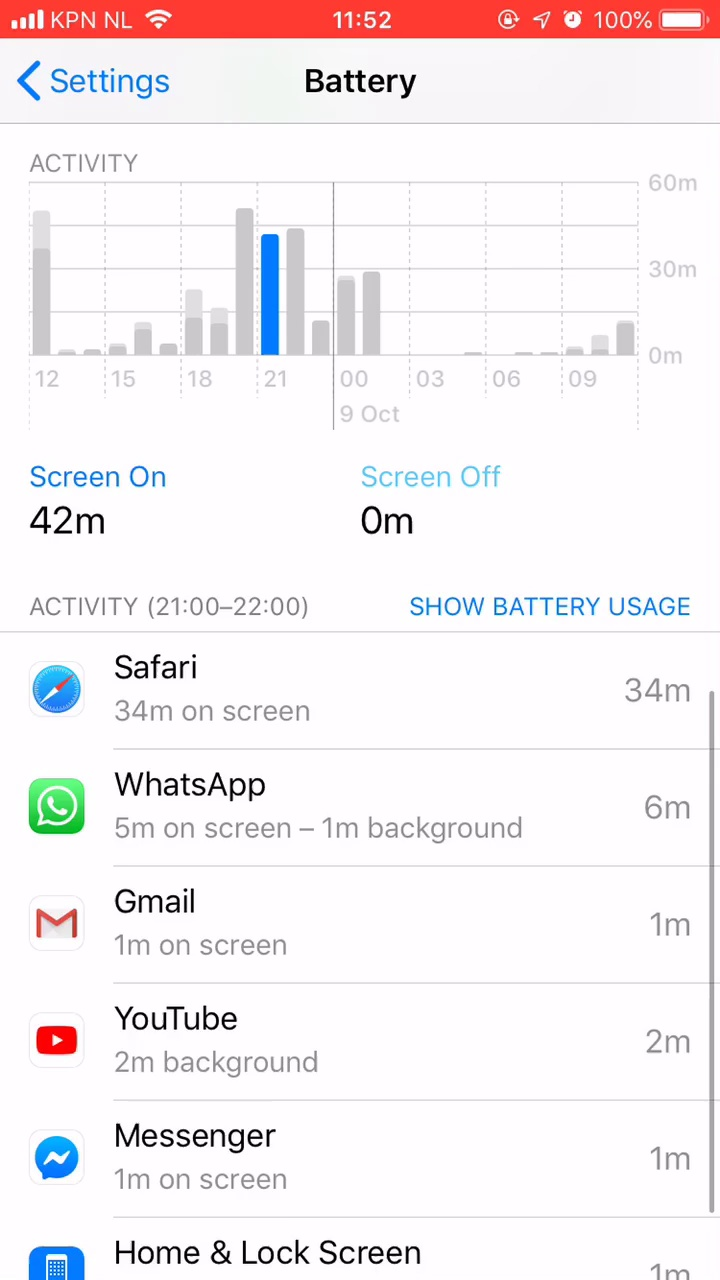activity: (19, 575, 330, 620)
app: (30, 648, 700, 729), (26, 765, 696, 846), (25, 879, 695, 960), (23, 992, 693, 1073), (30, 1118, 700, 1199)
